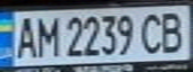2: (60, 12, 84, 59), (81, 11, 103, 58)
3: (100, 11, 121, 57)
9: (115, 11, 139, 56)
A: (9, 13, 39, 60)
B: (157, 8, 190, 54)
C: (136, 10, 166, 55)
M: (33, 12, 60, 59)
